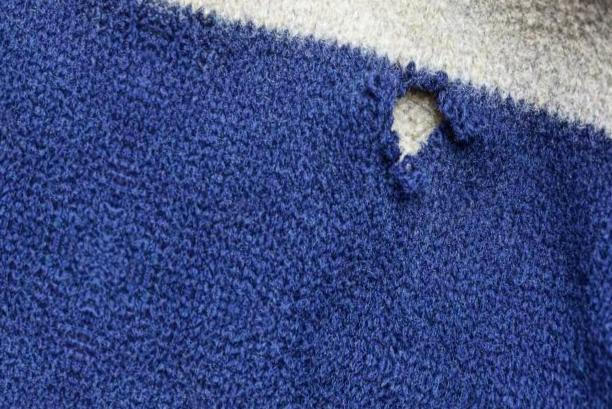hole: (382, 78, 452, 164)
